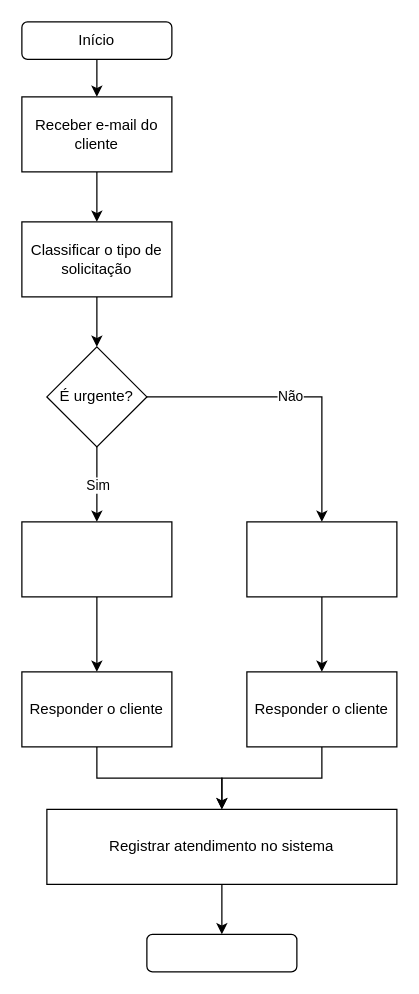
Some shapes in this 419 by 994 pixel diagram are drawn without their labels. Here are the shapes that lost their labels. From the top down, the centre of each, then its label:
point (96, 559): Encaminhar para atendimento rápido
point (321, 559): Fila normal de atendimento
point (221, 952): Fim
